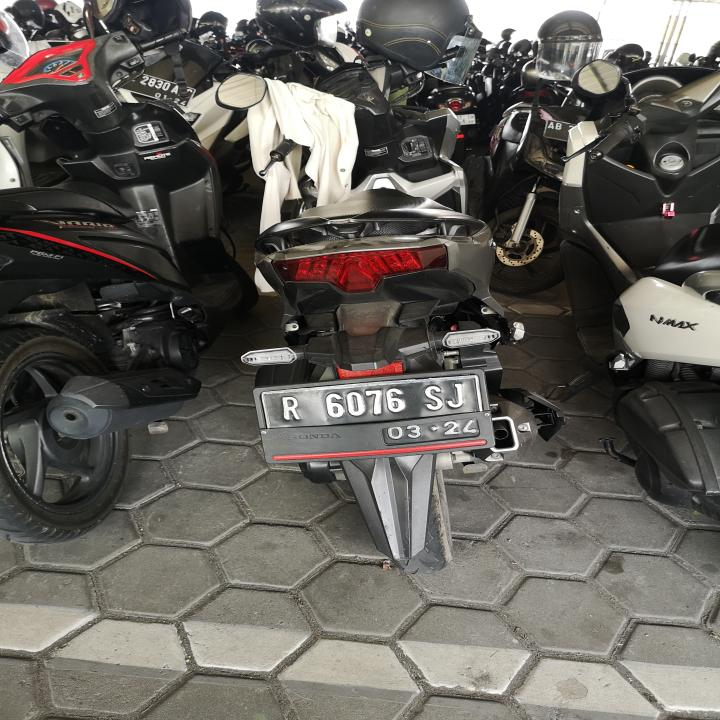plate: (257, 370, 484, 452), (116, 73, 196, 107)
